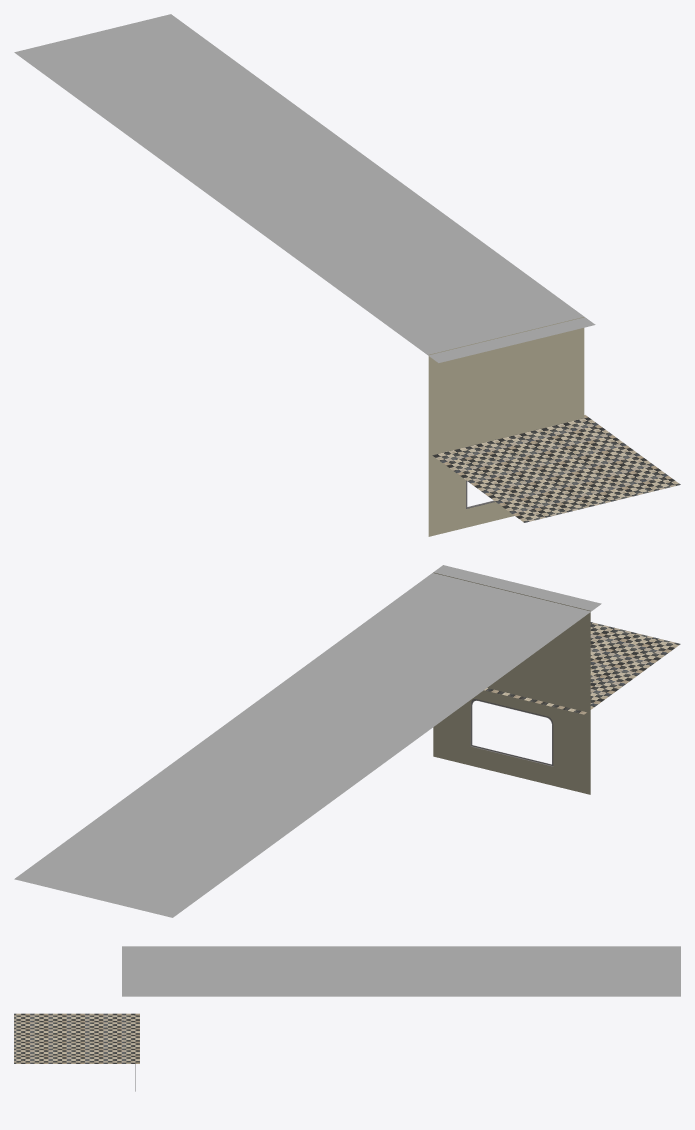
The model's file is ceiling.glb.
3 renders of one model, top to bottom at view 1: azimuth 30°, elevation 25°; view 2: azimuth 150°, elevation 25°; view 3: azimuth 270°, elevation 25°, orthographic. The views are drawn at different scales.
Visible parts, largest first — view 1: Plane.003, Plane, Cube.001; view 2: Plane.003, Plane, Cube.001; view 3: Plane.003, Cube.001.
Part boxes in pixels (x1,y1,x2,y2): Plane.003: [14, 14, 595, 362]; Plane: [428, 317, 584, 536]; Cube.001: [432, 415, 680, 522]; Plane.003: [14, 565, 601, 917]; Plane: [433, 572, 590, 794]; Cube.001: [484, 622, 680, 714]; Plane.003: [122, 946, 680, 996]; Cube.001: [14, 1013, 139, 1063].
Size of the model in its own units: 13.08 by 14.19 by 71.55.
4 materials, 1 textured.
